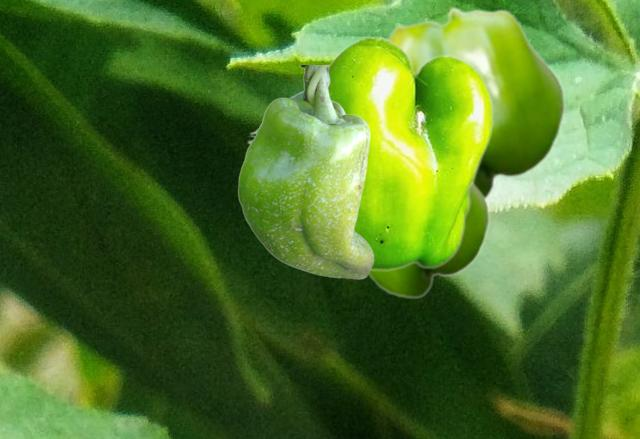bell_pepper: (326, 35, 492, 270), (387, 6, 565, 200), (237, 65, 373, 278), (368, 183, 489, 298)
